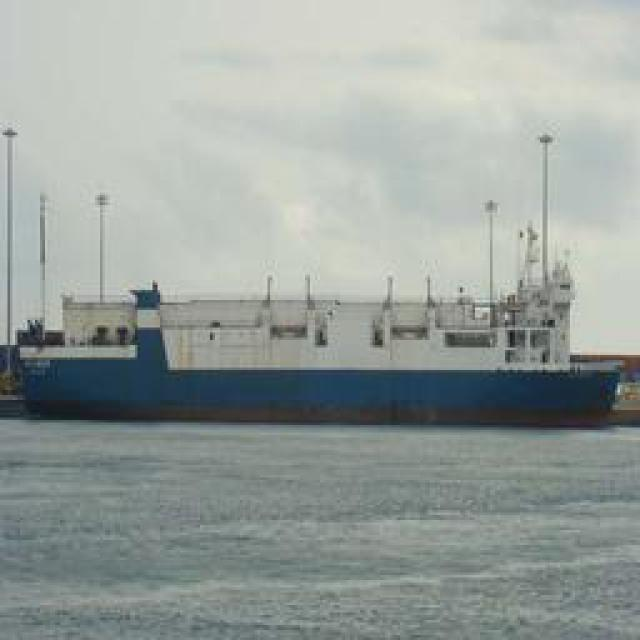Ship: (12, 275, 630, 433)
